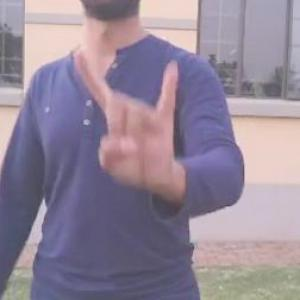takeoff-hand: (68, 39, 188, 202)
